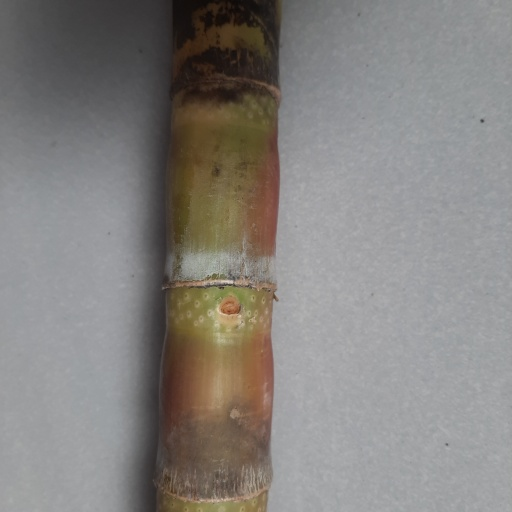Damage_Bud: (217, 294, 241, 317)
